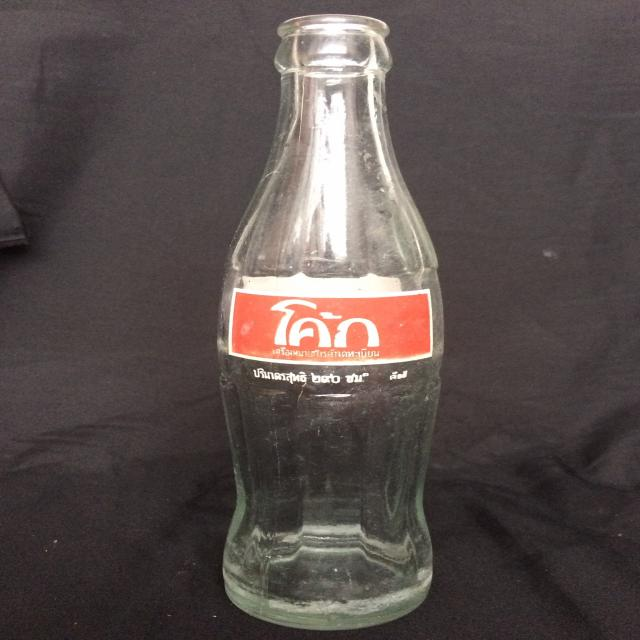glass-bottle: (204, 10, 483, 635)
